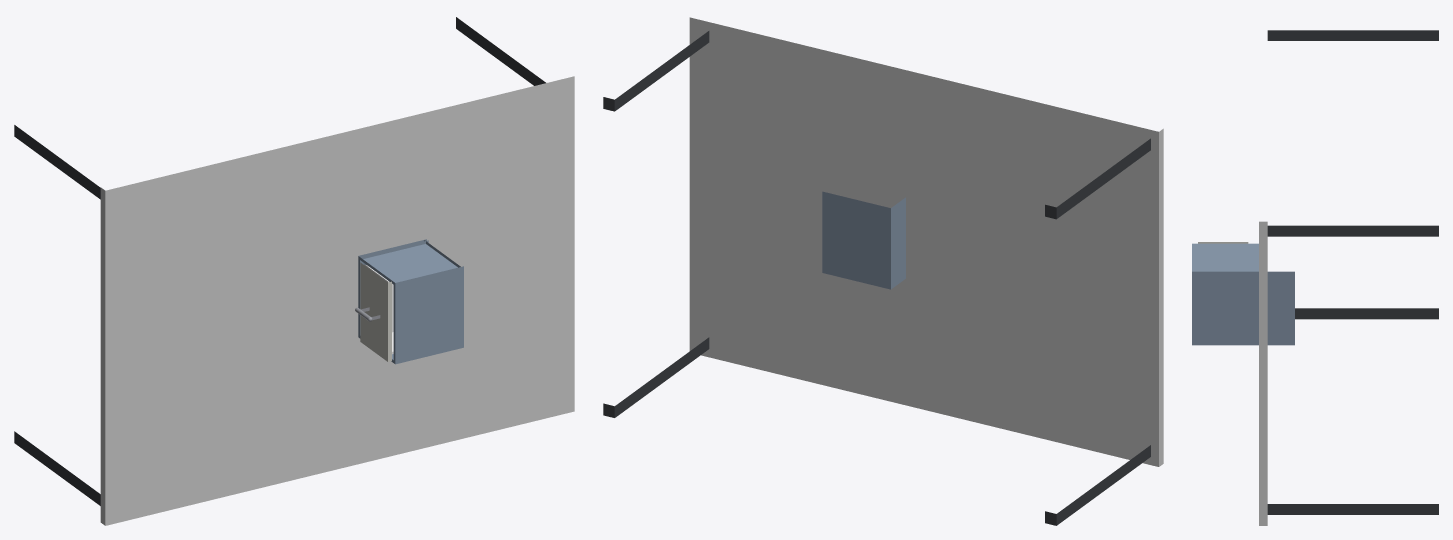
The picture shows the model from 3 angles, left to right: view 1: azimuth 30°, elevation 25°; view 2: azimuth 150°, elevation 25°; view 3: azimuth 270°, elevation 25°; orthographic projection. The views are drawn at different scales.
Visible parts, largest first — view 1: s0, s1, s2; view 2: s0, s1; view 3: s0, s1.
Boxes of the visible parts, <box> form: s0: <box>14,17,574,525</box>; s1: <box>358,239,463,364</box>; s2: <box>355,262,393,361</box>; s0: <box>603,17,1163,525</box>; s1: <box>822,191,905,289</box>; s0: <box>1259,30,1438,525</box>; s1: <box>1192,243,1294,345</box>.
Size of the model in its own units: 2.05 by 1.4 by 1.03.
